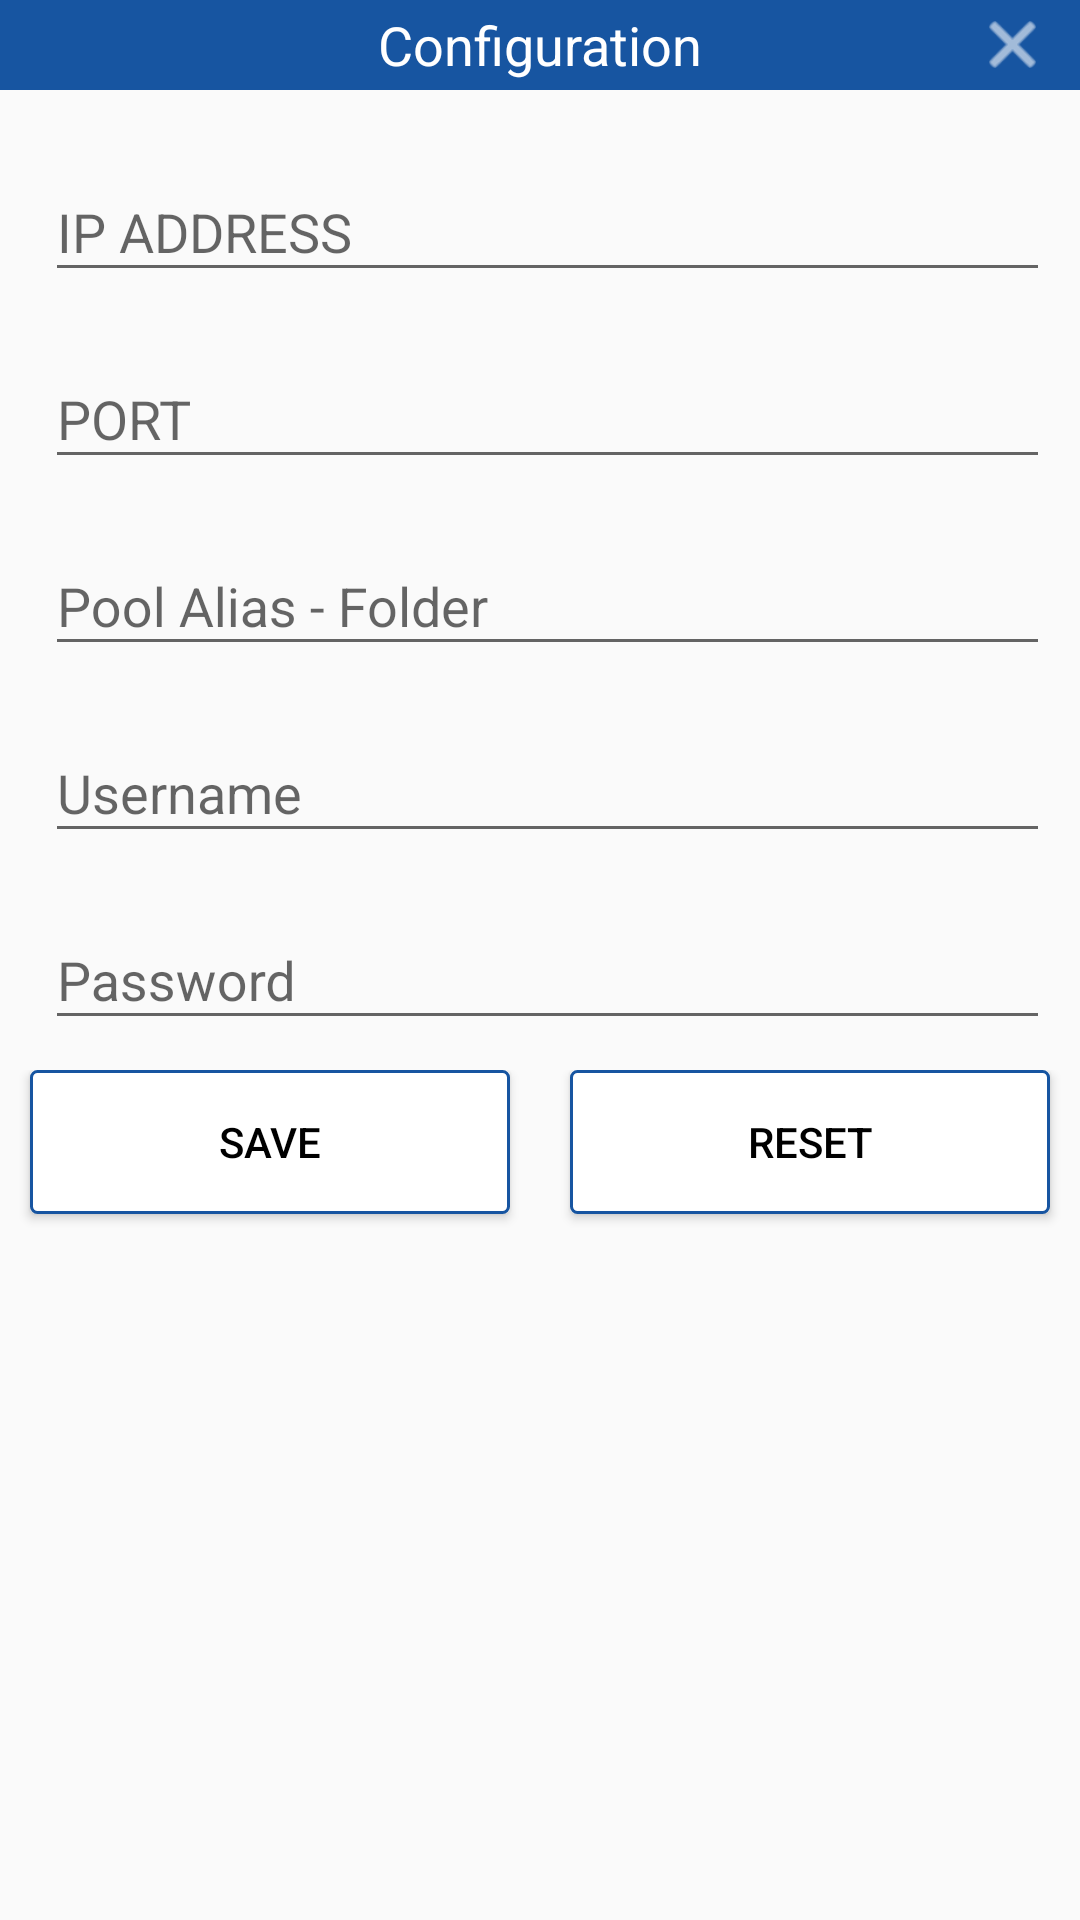

Point at icon controls on the screen. Image size 1080*1920, points as (x,y).
close clear cancel: (1012,44)
